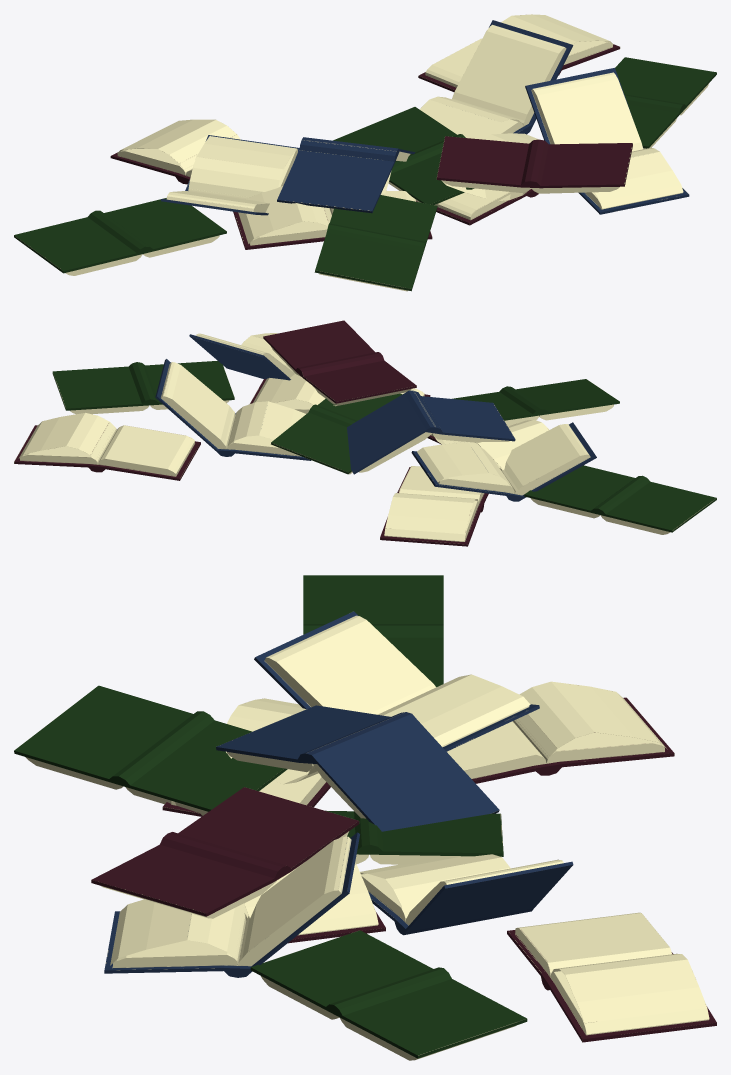
File: OpenBooks.fbx
The picture shows the model from 3 angles, top to bottom: view 1: azimuth 30°, elevation 25°; view 2: azimuth 150°, elevation 25°; view 3: azimuth 270°, elevation 25°; orthographic projection. The views are drawn at different scales.
Parts seen in each view (by area): view 1: OpenBooks.001; view 2: OpenBooks.001; view 3: OpenBooks.001.
Part boxes in pixels (x1,y1,x2,y2): OpenBooks.001: [14, 14, 716, 291]; OpenBooks.001: [14, 320, 716, 546]; OpenBooks.001: [14, 575, 716, 1060].
Bounding box in the file's own units: 162 × 14.72 × 100.
3 materials, 3 textured.
